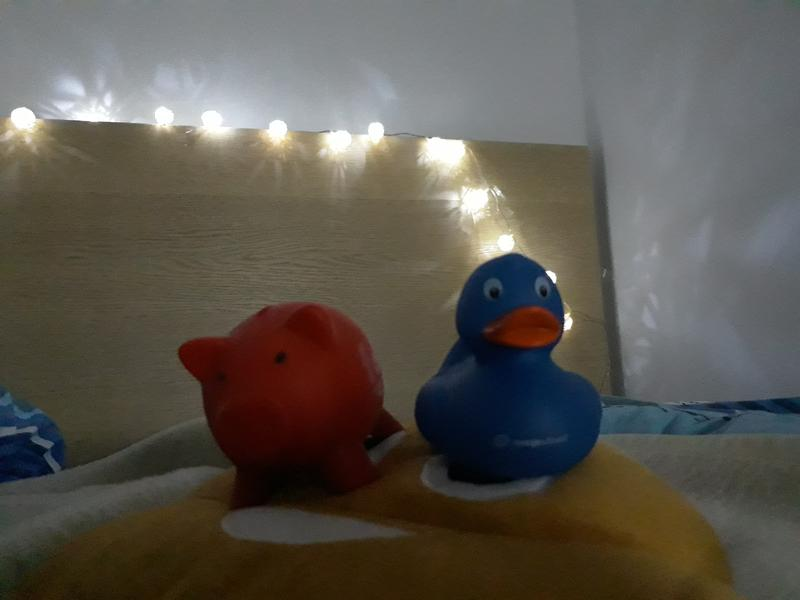foi_gujdica: (175, 294, 386, 486)
plava_patkica: (400, 248, 614, 475)
